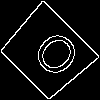O: (23, 27, 84, 88)
